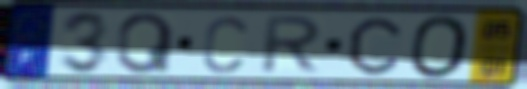3: (59, 9, 113, 76)
C: (346, 15, 404, 77), (200, 13, 250, 75)
O: (408, 14, 472, 81)
Q: (114, 10, 177, 76)
R: (256, 14, 327, 76)
